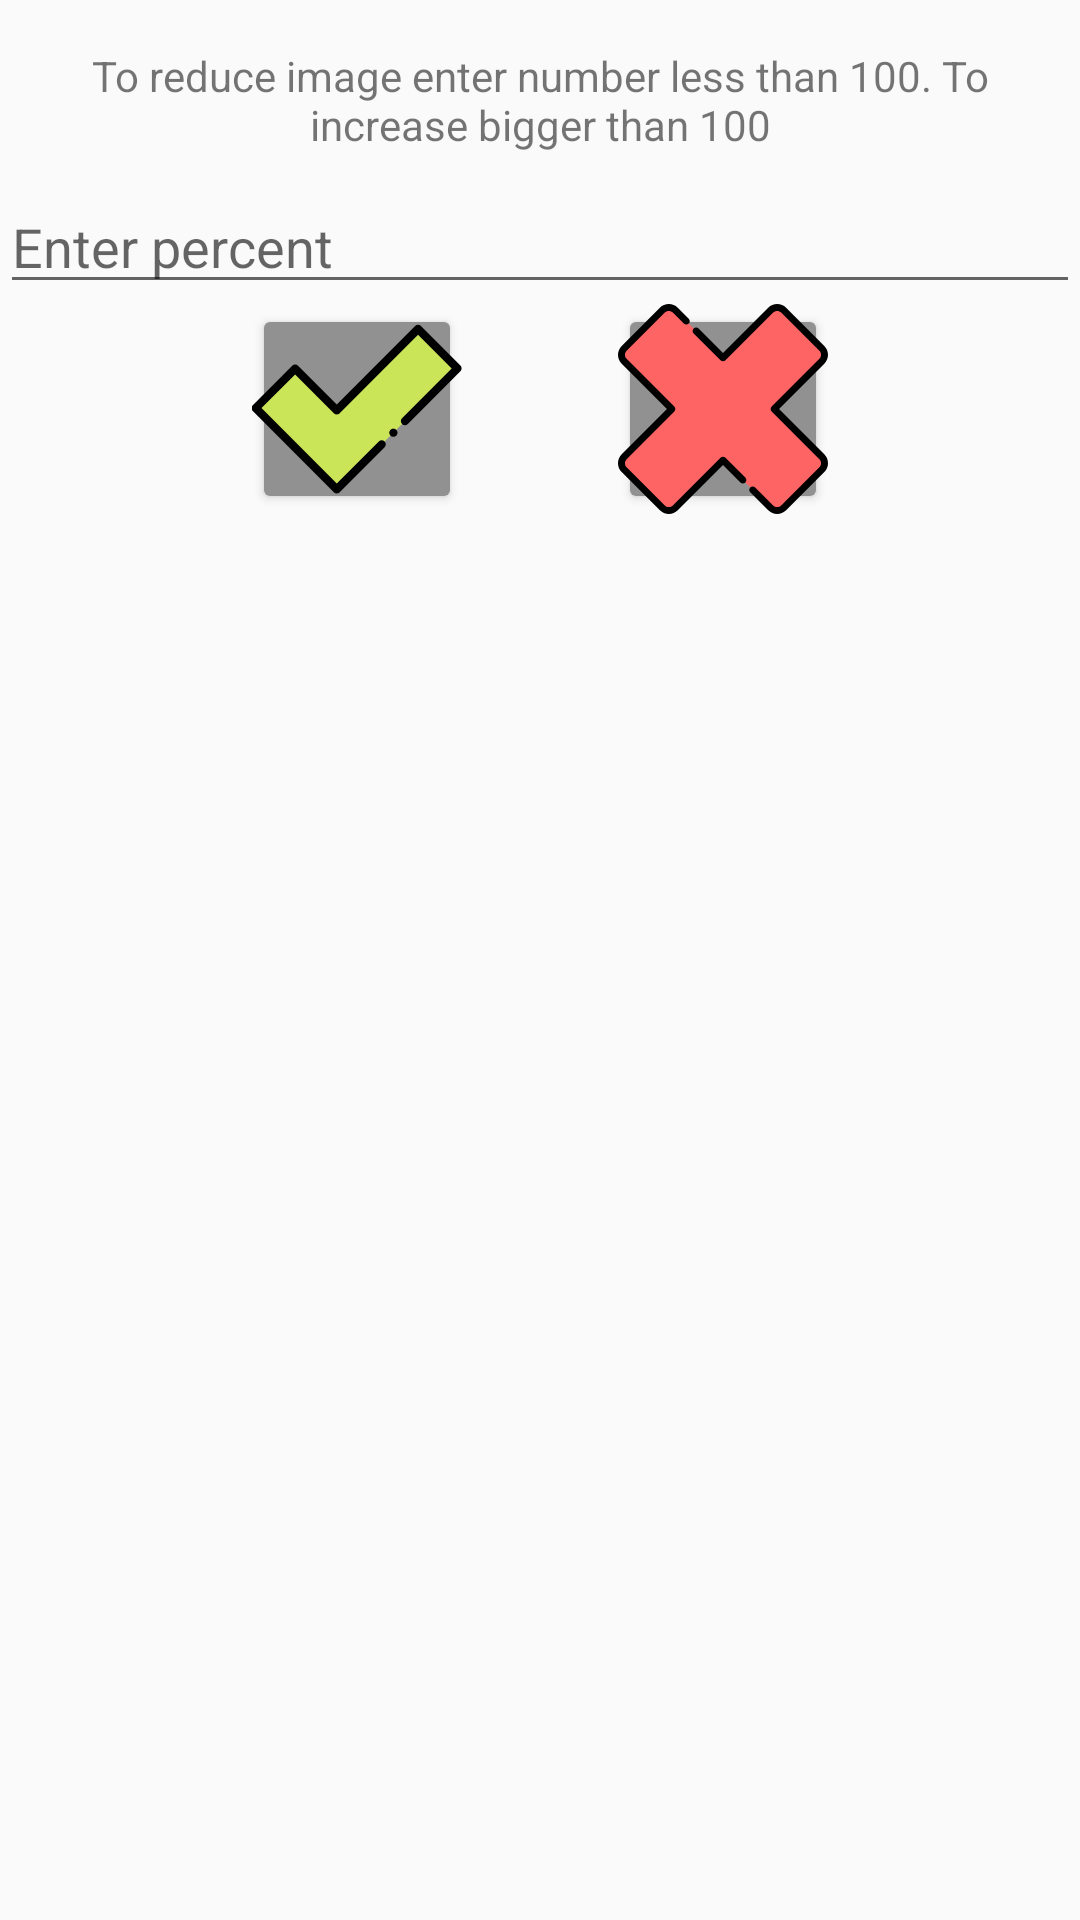

Point at icon controls on the screen. Image size 1080*1920, points as (x,y).
accept: (357,409)
cross: (723,409)
